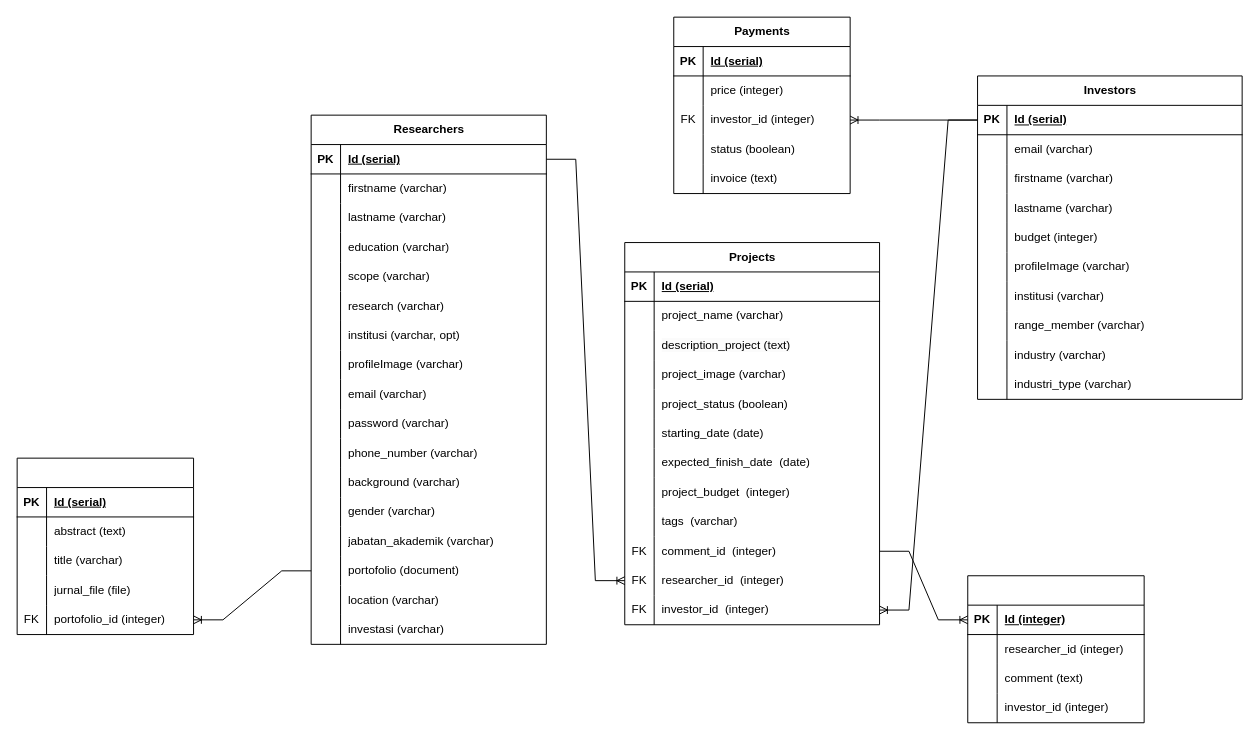
The diagram is 1259 pixels wide and 740 high, and some of its shapes have lost their labels. The shapes that lost their labels are listed below. From the top down, each one's box as (x1, y1, x2, y2) in pixels, then its label:
(16, 457, 194, 635): Jurnals
(967, 575, 1144, 723): Comments
